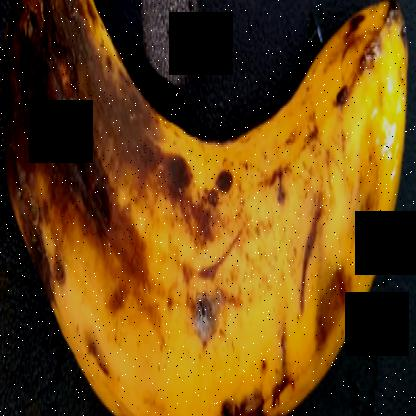rotten: (0, 0, 411, 415)
